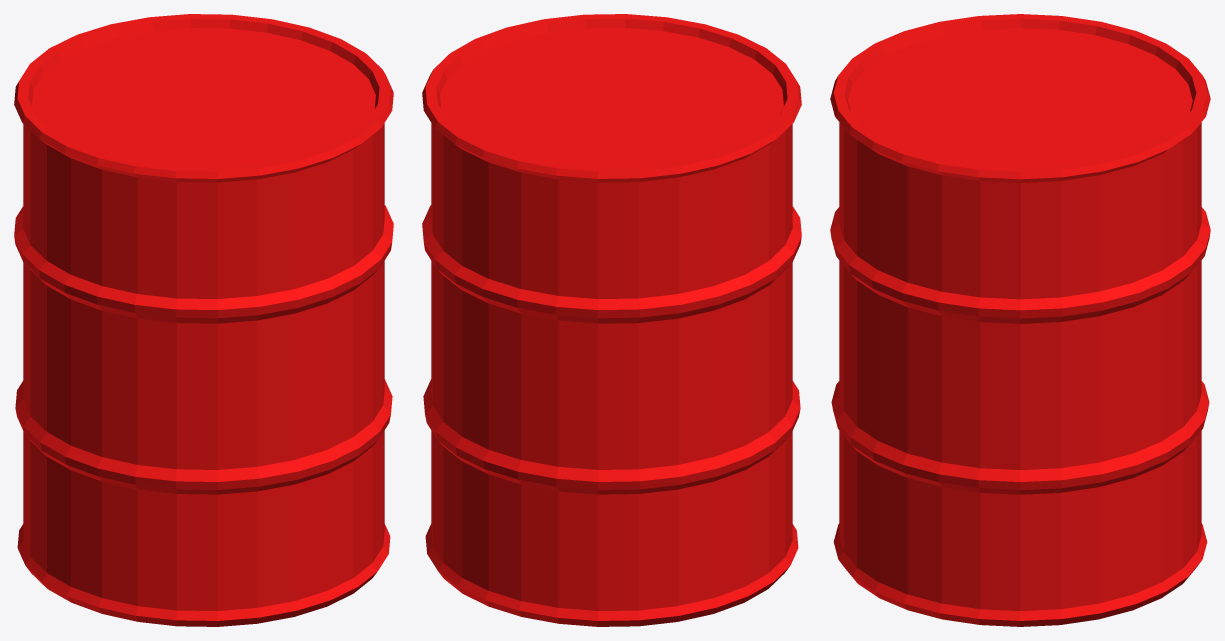
The model's file is Barrel01.fbx.
3 views of the same model, side by side, from view 1: azimuth 30°, elevation 25°; view 2: azimuth 150°, elevation 25°; view 3: azimuth 270°, elevation 25° (orthographic).
Visible parts, largest first — view 1: Barrel; view 2: Barrel; view 3: Barrel.
Part boxes in pixels (x1,y1,x2,y2): Barrel: [14, 14, 393, 626]; Barrel: [422, 14, 801, 626]; Barrel: [830, 14, 1210, 626].
Bounding box in the file's own units: 102 × 135 × 102.
